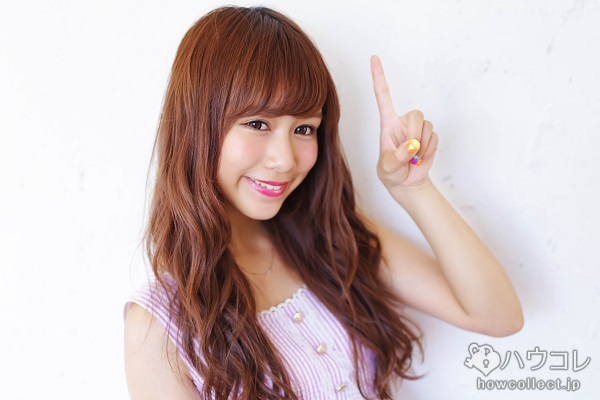face: (213, 84, 324, 221)
hand: (370, 54, 441, 186)
